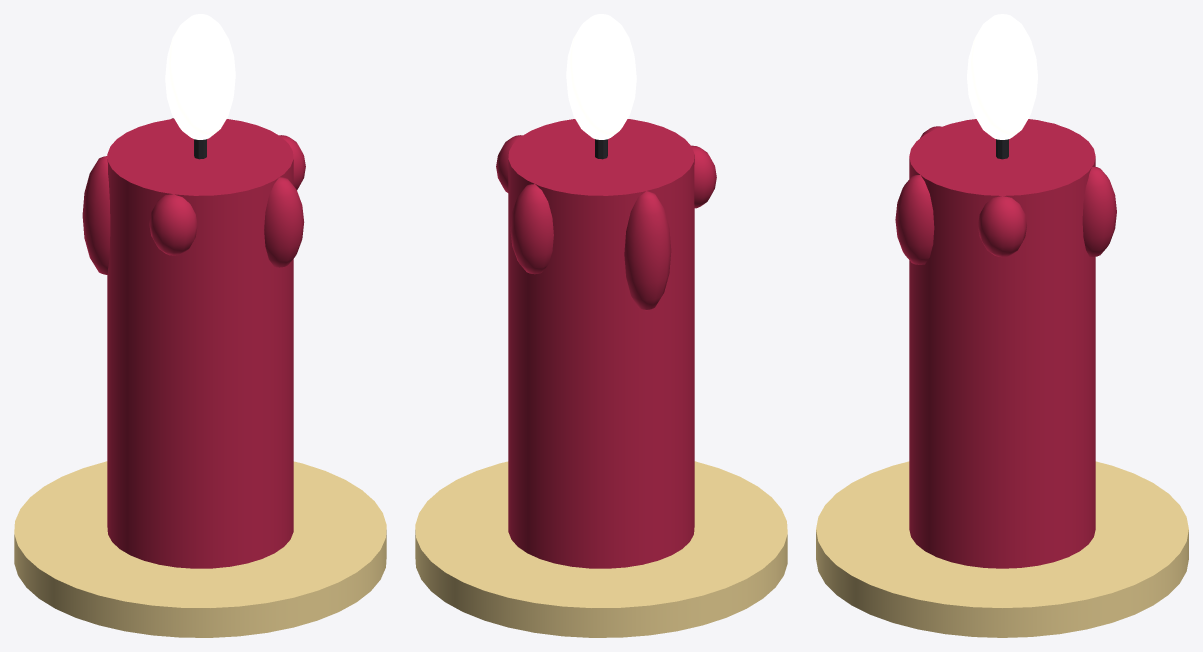
File: Item_HotWaxCandle.fbx
3 renders of one model, left to right at view 1: azimuth 30°, elevation 25°; view 2: azimuth 150°, elevation 25°; view 3: azimuth 270°, elevation 25°, orthographic.
Parts seen in each view (by area): view 1: Candle_Body, Candle_Plate, Candle_Flame; view 2: Candle_Body, Candle_Plate, Candle_Flame; view 3: Candle_Body, Candle_Plate, Candle_Flame.
Part boxes in pixels (x1=…): Candle_Body: x1=82, y1=118, x2=305, y2=568; Candle_Plate: x1=14, y1=461, x2=386, y2=637; Candle_Flame: x1=165, y1=14, x2=235, y2=139; Candle_Body: x1=496, y1=119, x2=716, y2=568; Candle_Plate: x1=415, y1=461, x2=787, y2=637; Candle_Flame: x1=566, y1=14, x2=636, y2=139; Candle_Body: x1=895, y1=119, x2=1116, y2=568; Candle_Plate: x1=816, y1=461, x2=1188, y2=637; Candle_Flame: x1=967, y1=14, x2=1037, y2=139.
Bounding box in the file's own units: 0.068 × 0.1094 × 0.068.
